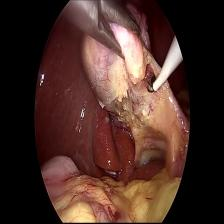Grasper: (64, 1, 141, 61)
Hook: (144, 34, 187, 96)
